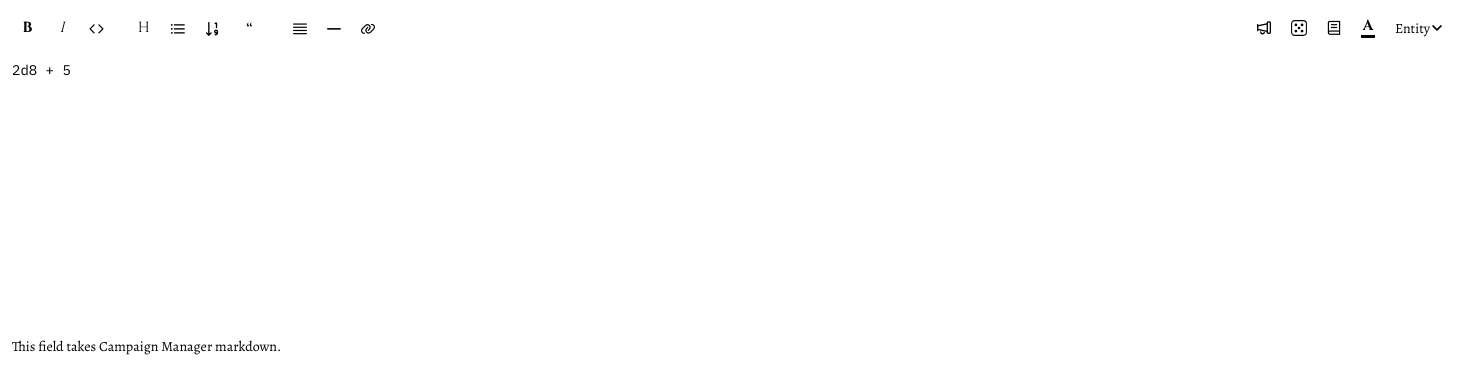
Test case: pressing a button › leaves the caret in the attribute when the label is already written
Click the button named "Insert Dice" at (1299, 28), box [1283,16,1315,40]
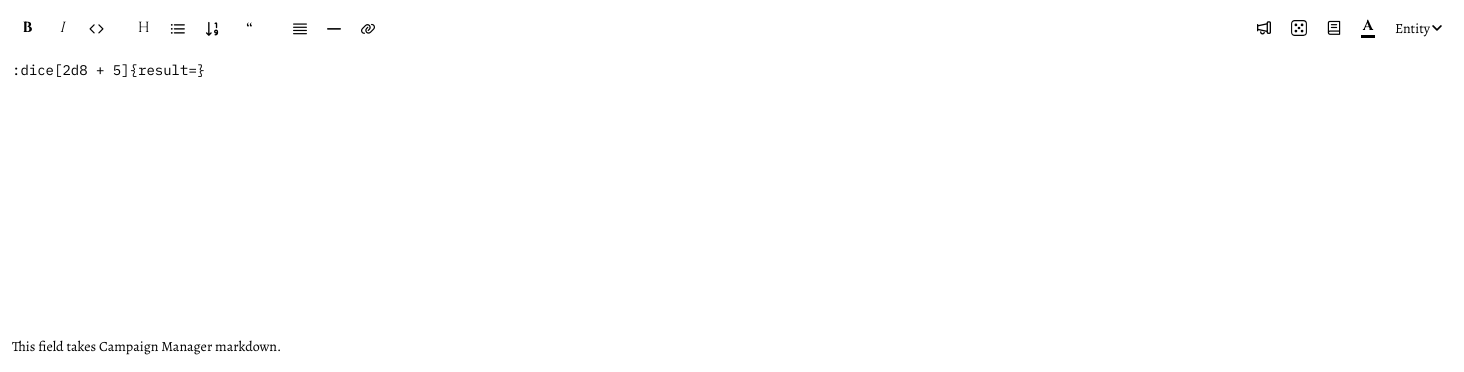
Expected: the text box labelled ":dice[2d8 + 5]{result=}" is shown, [12,61,205,79]
